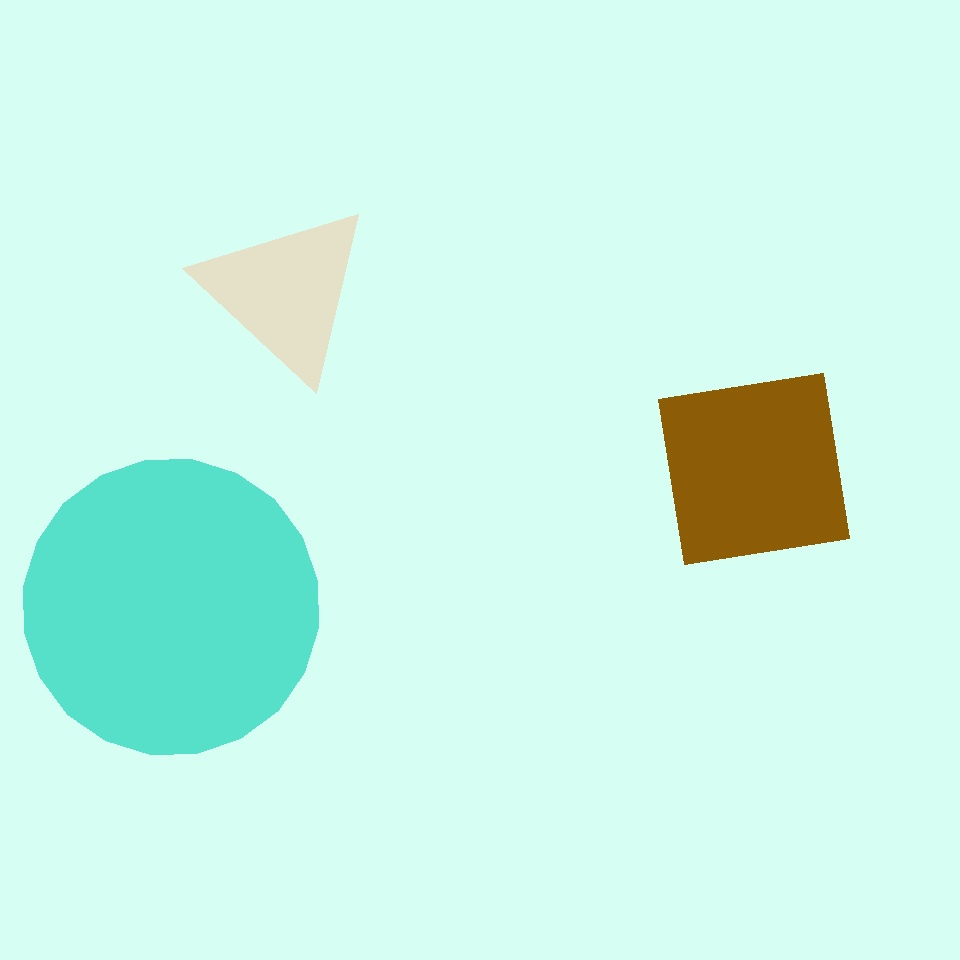circle: (73, 657, 273, 883), (198, 202, 374, 381)
square: (658, 374, 850, 564), (471, 471, 585, 585), (769, 360, 867, 458)
triangle: (23, 460, 318, 755), (531, 840, 633, 942)
